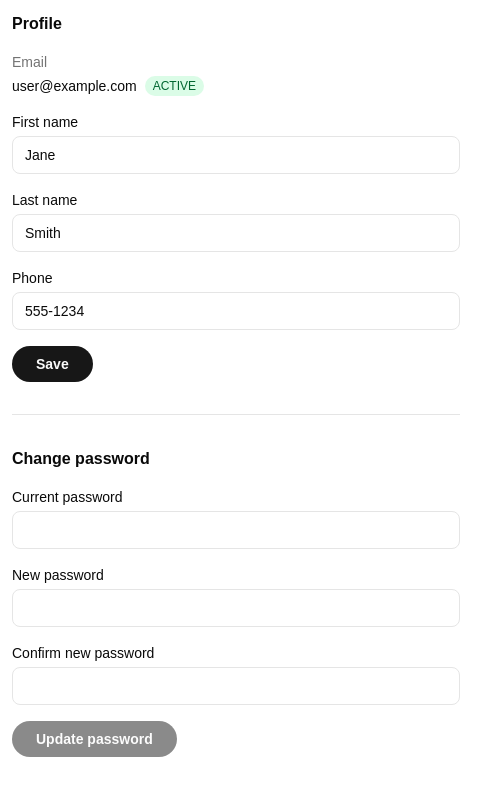
Test: ProfilePage › shows success message after save
Expected: the field showing "Jane" is shown, [12,136,460,174]
Click the button "Save" at (52, 364), box [12,346,93,382]
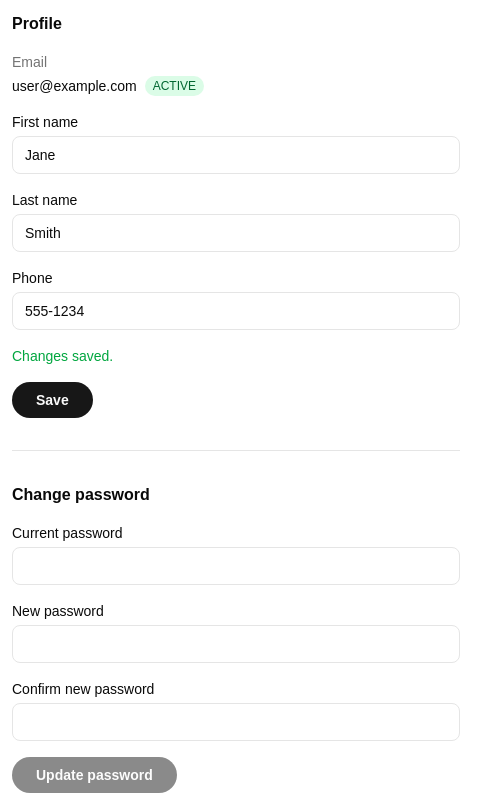
Expected: the text "Changes saved." is shown, [12,348,113,364]
